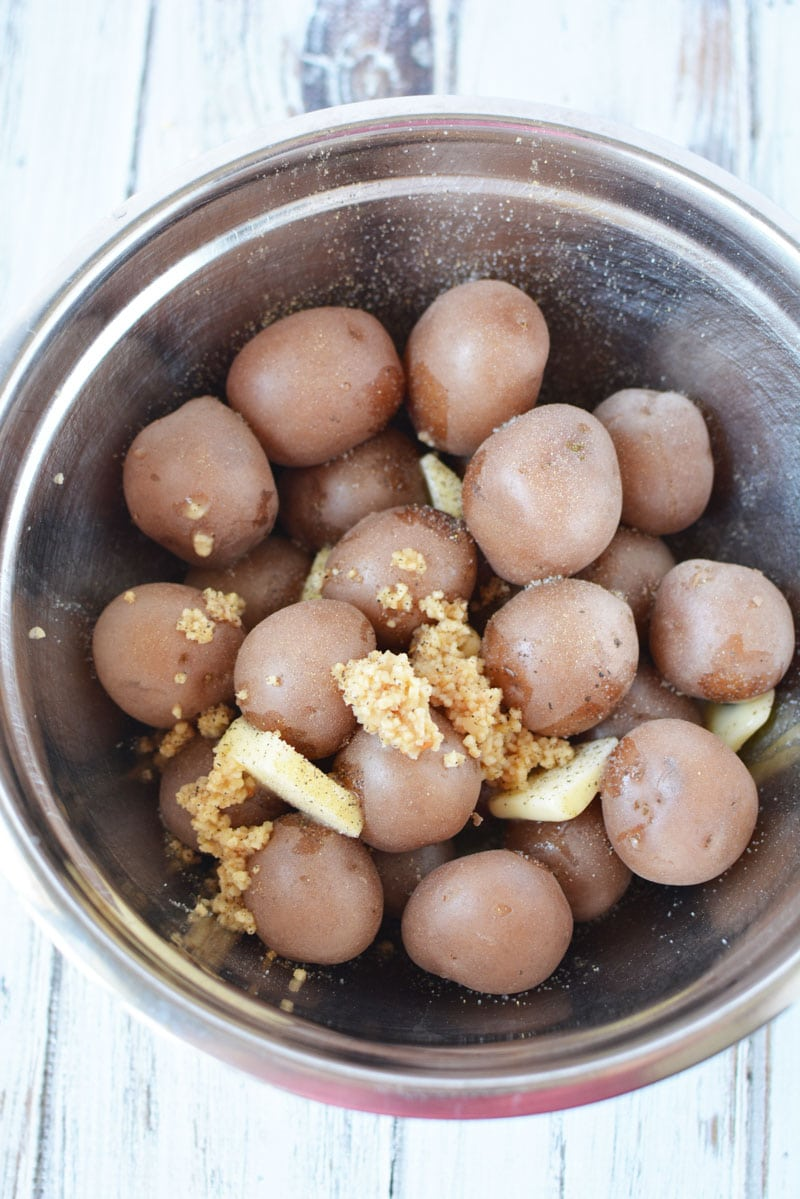boiled potatoes: (128, 321, 744, 974)
